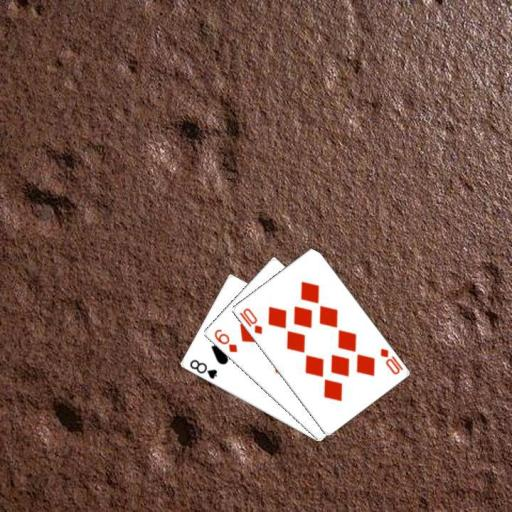10D: (236, 305, 264, 336), (377, 345, 405, 376)
6D: (211, 326, 238, 354)
8S: (187, 357, 219, 381)
